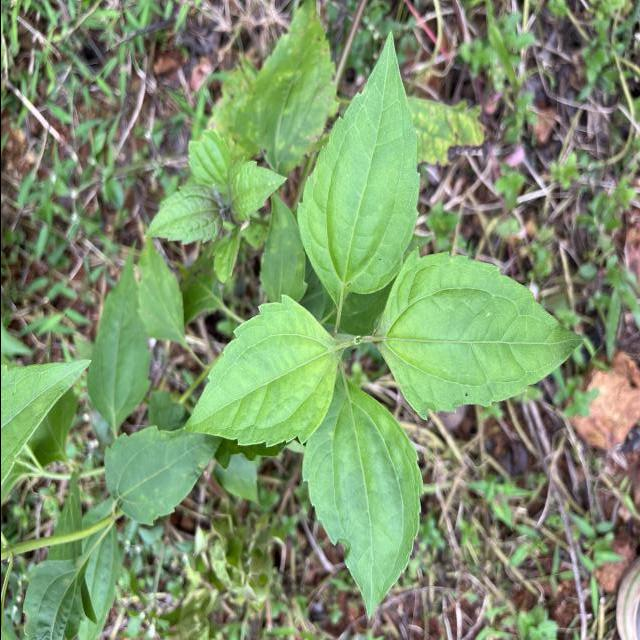Chromolaena odorata: (368, 242, 588, 426), (292, 27, 422, 310), (296, 364, 426, 624), (174, 289, 348, 452)
